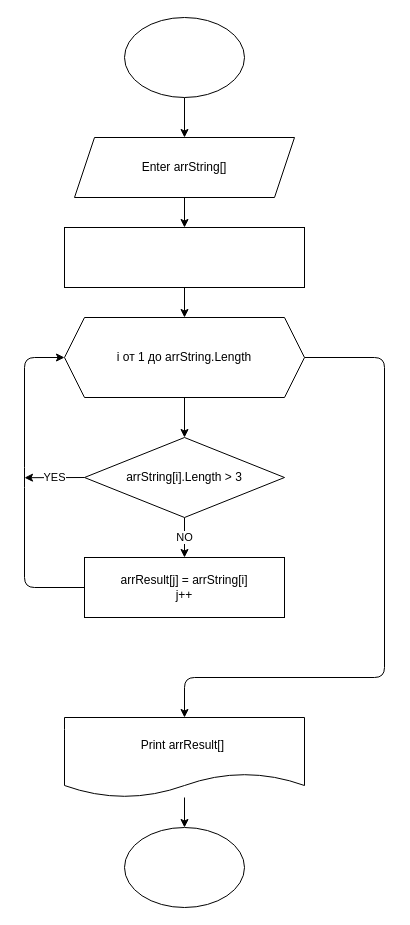
Image size: 410x925. Some labels were removed from this diagram. The shapes that lost their labels are listed below. From the top down, each one's centre as x and y in pixels, then its label:
the point at 184,57: Начало
the point at 184,257: arrResult[] j = 0
the point at 184,867: Конец
